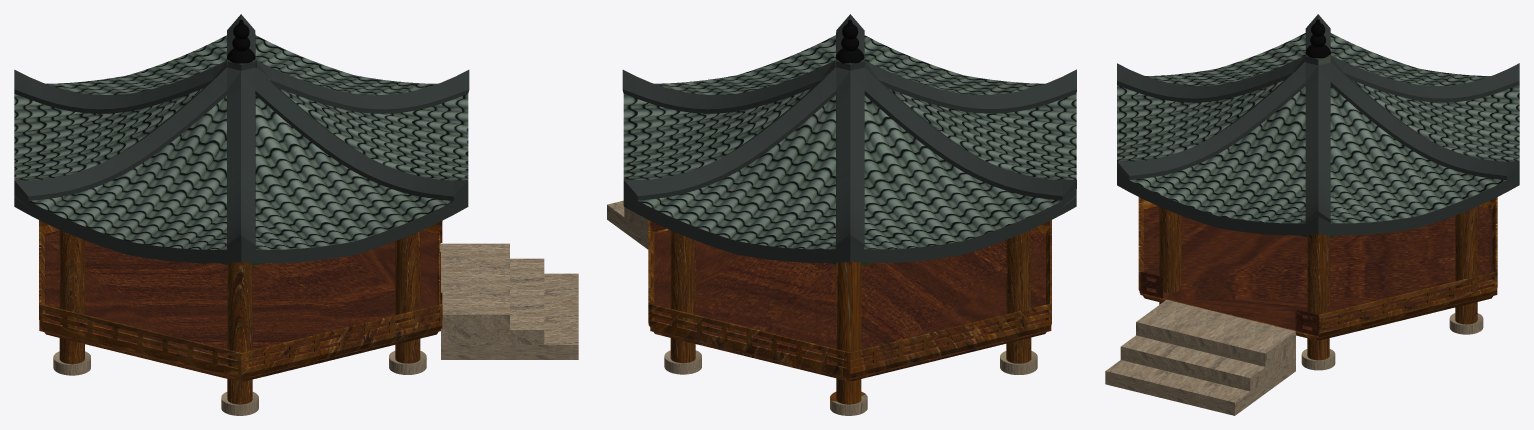
Rendered from pavilion.glb.
3 views of the same model, side by side, from view 1: azimuth 30°, elevation 25°; view 2: azimuth 150°, elevation 25°; view 3: azimuth 270°, elevation 25° (orthographic). The views are drawn at different scales.
Visible parts, largest first — view 1: Circle.003_13, Circle.001_10, Cube_23, Circle_9, Cylinder_17, Cylinder.001_18, Cylinder.003_20; view 2: Circle.003_13, Circle.001_10, Circle_9, Cylinder.002_19, Cylinder.001_18, Cylinder.004_21, Cube_23; view 3: Circle.003_13, Circle.001_10, Cube_23, Circle_9, Cylinder.005_22, Cylinder.004_21, Cylinder.003_20.
Part boxes in pixels (x1,y1,x2,y2): Circle.003_13: [14, 14, 469, 263]; Circle.001_10: [39, 221, 442, 379]; Cube_23: [441, 243, 578, 359]; Circle_9: [39, 220, 442, 381]; Cylinder_17: [221, 262, 258, 415]; Cylinder.001_18: [53, 230, 90, 375]; Cylinder.003_20: [389, 231, 426, 374]; Circle.003_13: [622, 14, 1076, 262]; Circle.001_10: [650, 221, 1051, 379]; Circle_9: [648, 220, 1051, 381]; Cylinder.002_19: [830, 262, 867, 415]; Cylinder.001_18: [1000, 230, 1037, 374]; Cylinder.004_21: [664, 230, 701, 374]; Cube_23: [607, 200, 648, 249]; Circle.003_13: [1117, 14, 1519, 235]; Circle.001_10: [1139, 206, 1497, 338]; Cube_23: [1105, 299, 1295, 415]; Circle_9: [1138, 197, 1497, 340]; Cylinder.005_22: [1301, 234, 1335, 370]; Cylinder.004_21: [1449, 206, 1483, 334]; Cylinder.003_20: [1159, 206, 1181, 304].
Size of the model in its own units: 4.65 by 2.63 by 3.63.
Materials: 21 (17 with a texture image).
